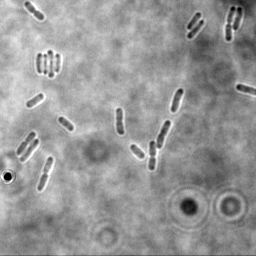Dividing: (36, 156, 54, 193), (15, 130, 37, 156), (19, 138, 40, 164), (155, 119, 172, 150), (23, 1, 46, 22), (223, 5, 236, 42), (114, 107, 125, 137), (147, 140, 157, 172)
Microcolony: (35, 50, 63, 79)
Rod: (169, 88, 185, 114), (186, 20, 205, 41), (185, 11, 202, 30), (235, 83, 256, 98), (57, 116, 75, 133), (26, 93, 45, 109), (129, 143, 145, 161)
